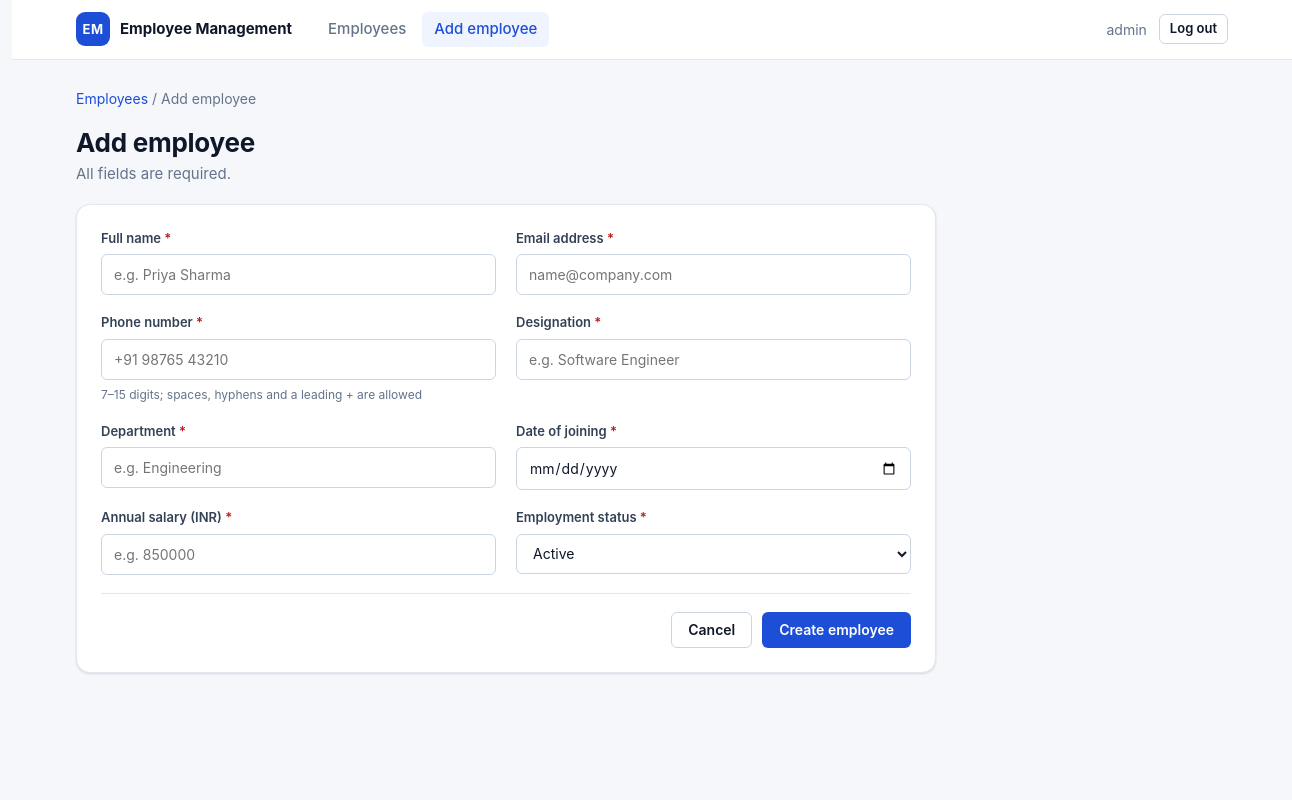
Test case: Add employee page › creates an employee and opens the new record with a success message
Expected: the heading "Add employee" is shown, x1=76 y1=126 x2=255 y2=159
Type "Neha Gupta" into the field labelled "Full name *". click: (298, 274)
box: x1=101 y1=254 x2=496 y2=295
Type "neha.gupta@example.com" into the field labelled "Email address *". click: (714, 274)
box: x1=516 y1=254 x2=911 y2=295
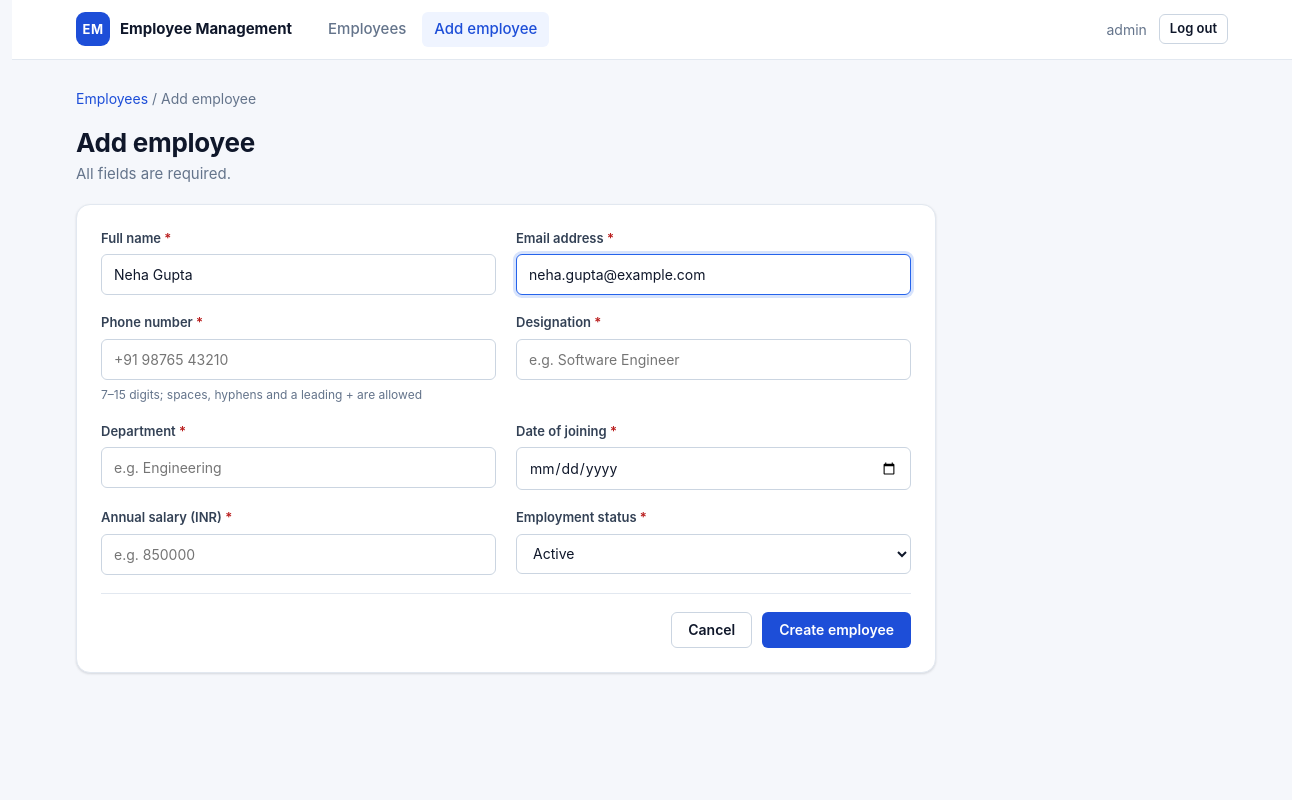
Type "9876501234" into the field labelled "Phone number *". click: (298, 359)
box: x1=101 y1=338 x2=496 y2=380
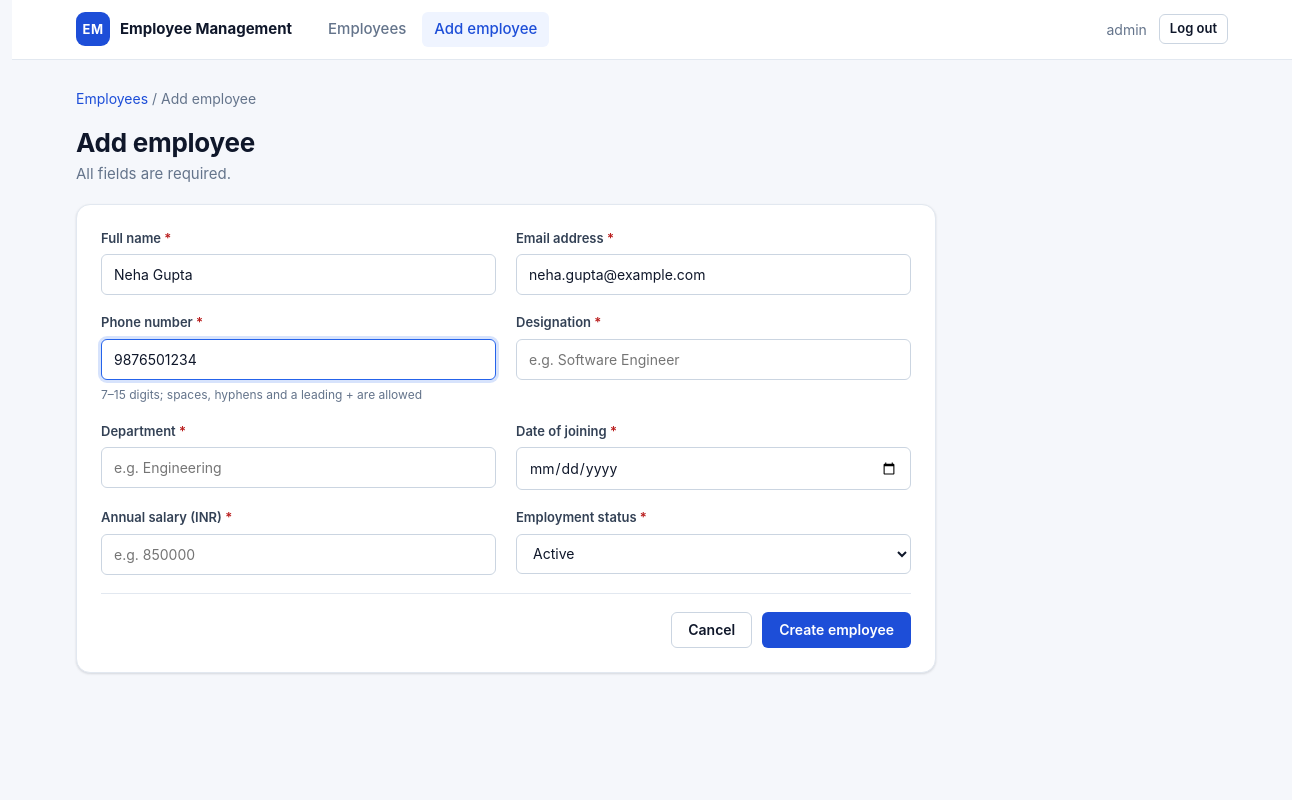
Type "Data Analyst" into the field labelled "Designation *". click: (714, 359)
box: x1=516 y1=338 x2=911 y2=380
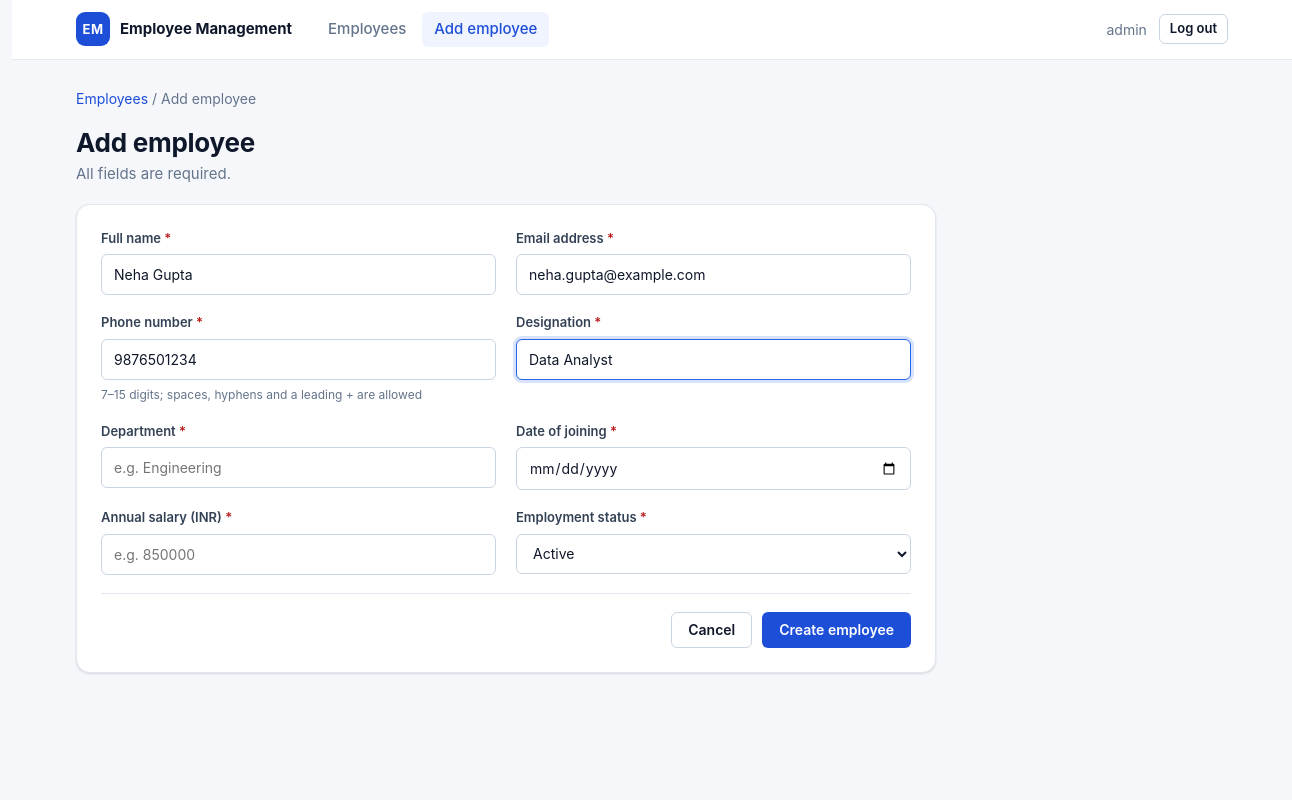
Type "Finance" into the field labelled "Department *". click: (298, 468)
box: x1=101 y1=447 x2=496 y2=488
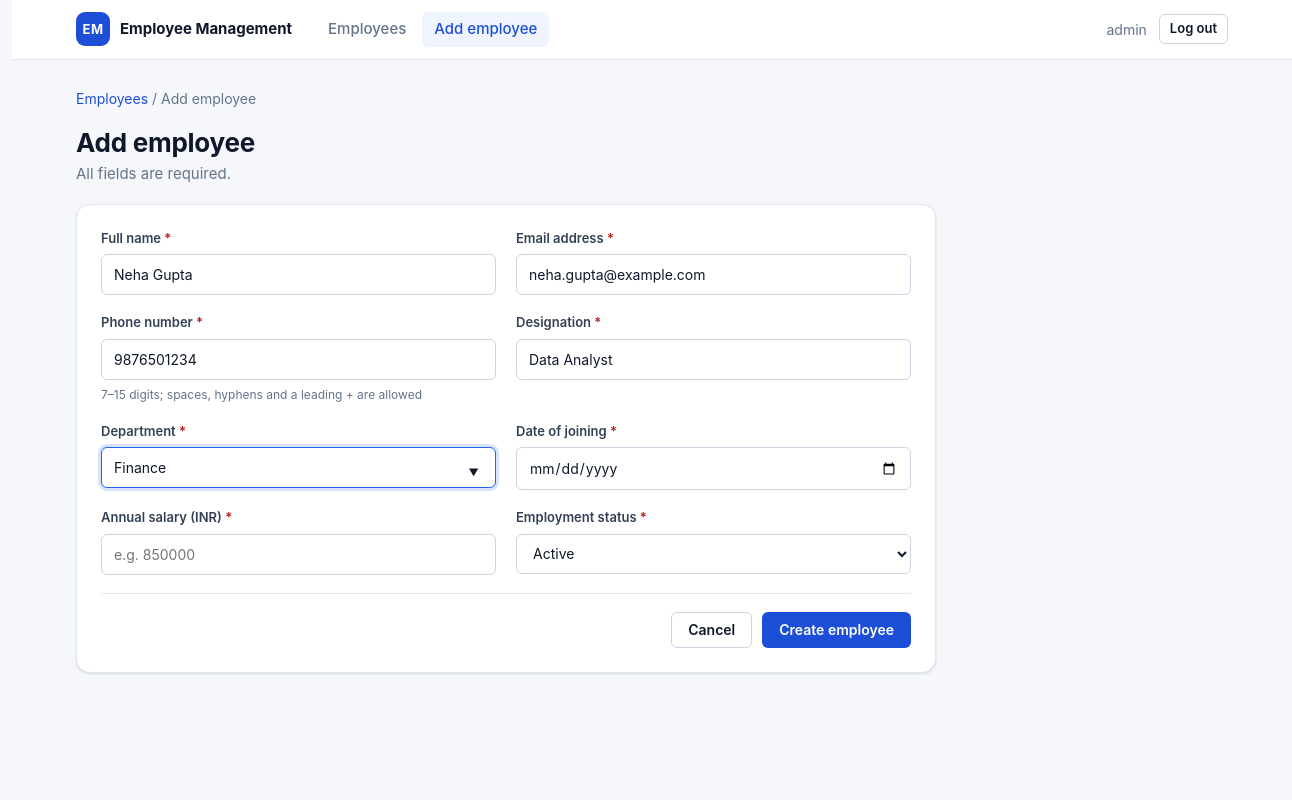
Type "2025-03-10" into the date field labelled "Date of joining *". click: (714, 468)
box: x1=516 y1=447 x2=911 y2=490
Type "720000" into the number field labelled "Annual salary (INR) *". click: (298, 554)
box: x1=101 y1=534 x2=496 y2=574
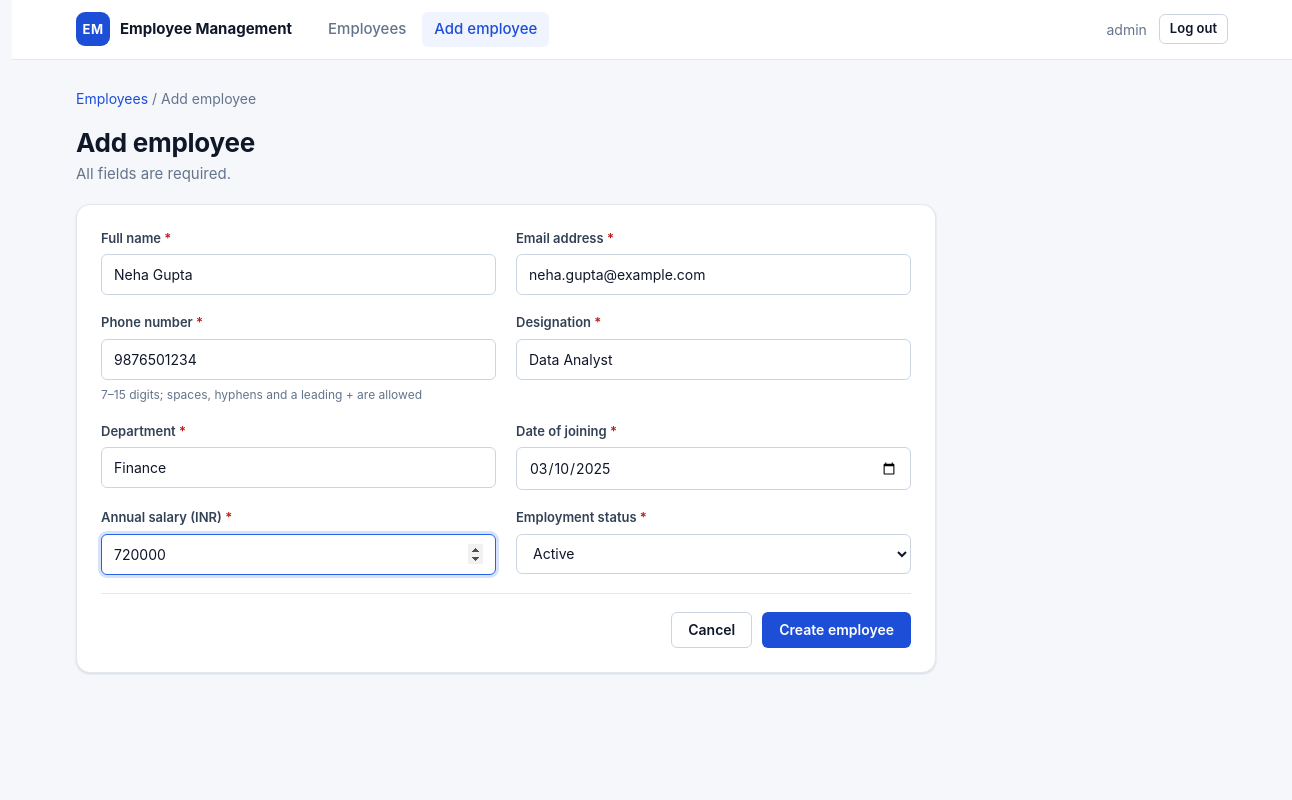
Click the button "Create employee". click: (837, 630)
box: x1=762 y1=612 x2=911 y2=648
(page scrolled)
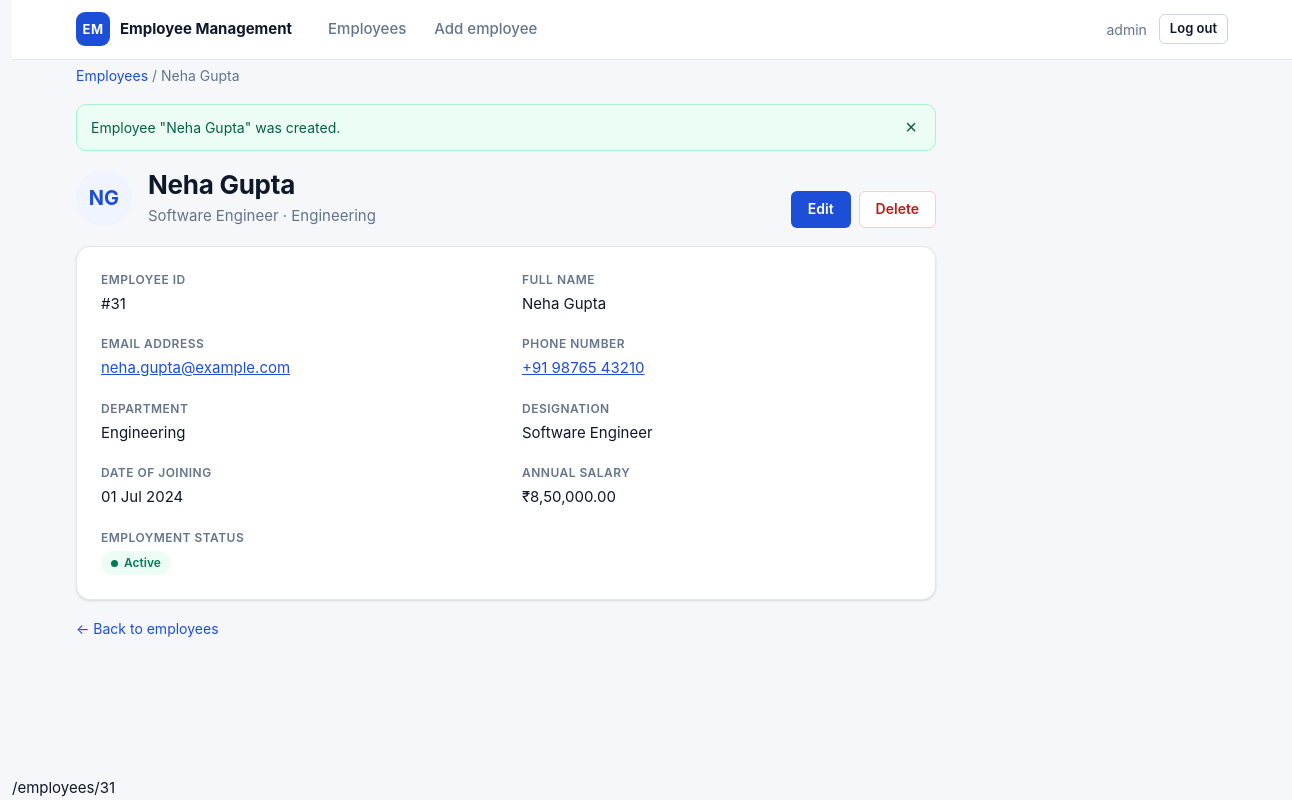
Expected: the text "Employee \"Neha Gupta\" was created." is shown, x1=91 y1=118 x2=340 y2=136
Expected: the text with test id "current-location" reads "/employees/31", x1=12 y1=778 x2=115 y2=797
